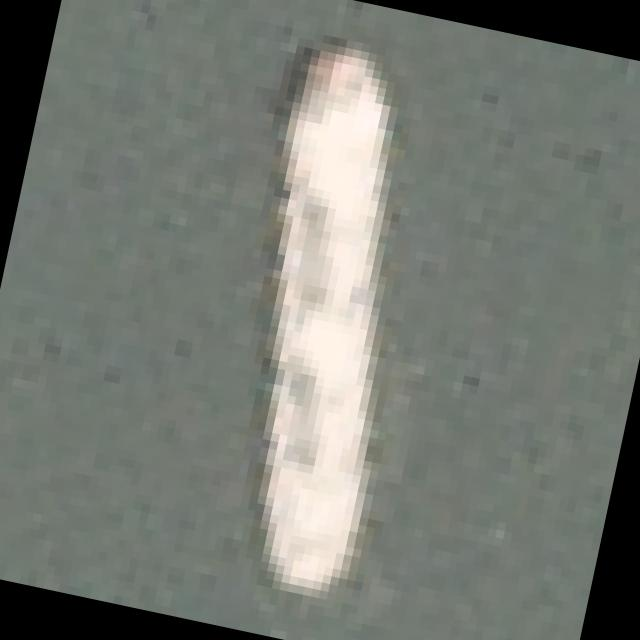ship: (148, 0, 500, 626)
